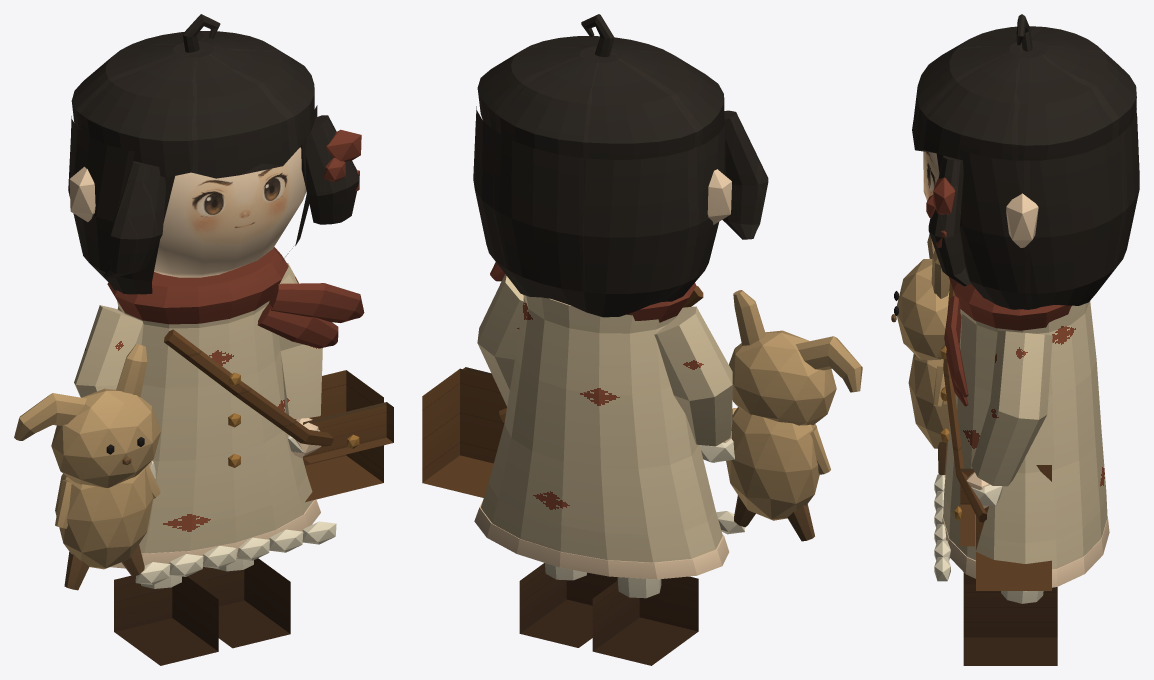
Rendered from mira-v03.glb.
3 views of the same model, side by side, from view 1: azimuth 30°, elevation 25°; view 2: azimuth 150°, elevation 25°; view 3: azimuth 270°, elevation 25° (orthographic).
Parts seen in each view (by area): view 1: coat, hair_crown, skull, rabbit_head, boot_l, scarf_wrap, hair_bob, rabbit_body, boot_r, satchel, hair_temple_l, sleeve_l (+19 smaller); view 2: coat, hair_bob, hair_crown, satchel, rabbit_body, rabbit_head, boot_l, sleeve_l, boot_r, coat_hem, hair_temple_l, sleeve_r (+7 smaller); view 3: coat, hair_crown, hair_bob, sleeve_r, boot_r, rabbit_head, hair_temple_r, satchel, scarf_wrap, rabbit_body, coat_hem, satchel_strap (+9 smaller).
Part boxes in pixels (<box>): coat: <box>117,301,313,553</box>; hair_crown: <box>71,31,314,178</box>; skull: <box>154,147,306,277</box>; rabbit_head: <box>51,388,160,487</box>; boot_l: <box>114,575,218,665</box>; scarf_wrap: <box>107,247,288,324</box>; hair_bob: <box>68,105,317,294</box>; rabbit_body: <box>55,468,153,569</box>; boot_r: <box>187,558,290,648</box>; satchel: <box>294,370,383,502</box>; hair_temple_l: <box>104,161,165,278</box>; sleeve_l: <box>74,305,143,397</box>; coat: <box>481,295,722,562</box>; hair_bob: <box>473,106,725,317</box>; hair_crown: <box>477,36,724,159</box>; satchel: <box>422,368,506,497</box>; rabbit_body: <box>726,407,819,520</box>; rabbit_head: <box>729,330,836,425</box>; boot_l: <box>592,576,698,665</box>; sleeve_l: <box>654,306,732,446</box>; boot_r: <box>519,563,617,647</box>; coat_hem: <box>474,501,729,579</box>; hair_temple_l: <box>722,110,768,239</box>; sleeve_r: <box>477,274,523,406</box>; coat: <box>943,301,1107,569</box>; hair_crown: <box>912,26,1136,160</box>; hair_bob: <box>936,104,1139,309</box>; sleeve_r: <box>971,330,1052,486</box>; boot_r: <box>963,584,1057,665</box>; rabbit_head: <box>897,259,949,360</box>; hair_temple_r: <box>928,155,970,286</box>; satchel: <box>976,465,1051,590</box>; scarf_wrap: <box>948,276,1071,330</box>; rabbit_body: <box>908,353,949,448</box>; coat_hem: <box>942,517,1109,591</box>; satchel_strap: <box>943,281,986,522</box>.
Size of the model in its own units: 1.39 by 2.12 by 0.7666.
Materials: 2 (2 with a texture image).
